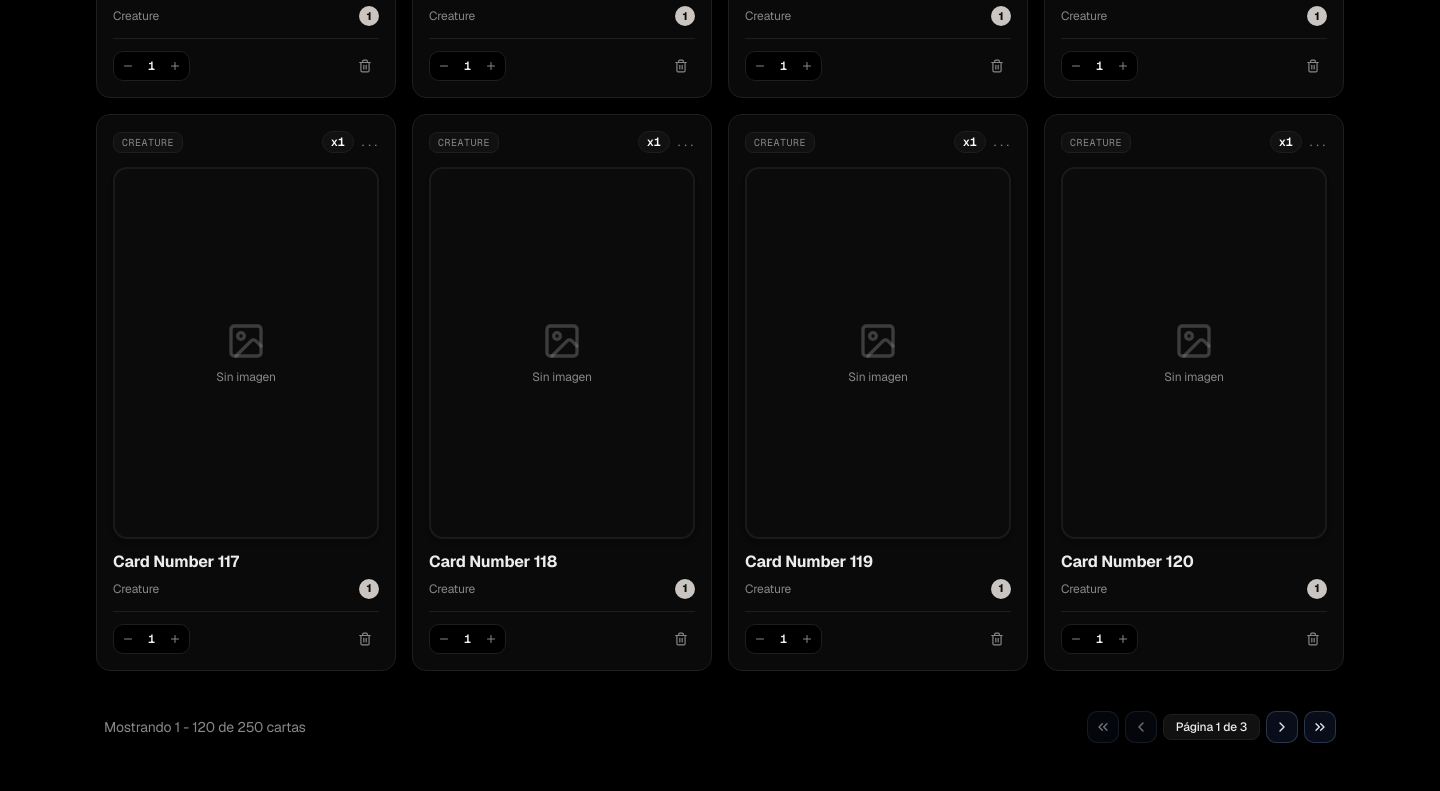
Test: CollectionView Full-Collection Backend Operations › asks the backend for each page and shows totals of the whole filtered collection
The image size is (1440, 791).
(page scrolled)
Check: the button "Card Number 120" is shown, box [1061,551,1194,573]
Check: the text "Mostrando 1 - 120 de 250 cartas" is shown, box [104,717,306,737]
Click the button named "Página siguiente": click(1282, 727) [1266,711,1298,743]
(page scrolled)
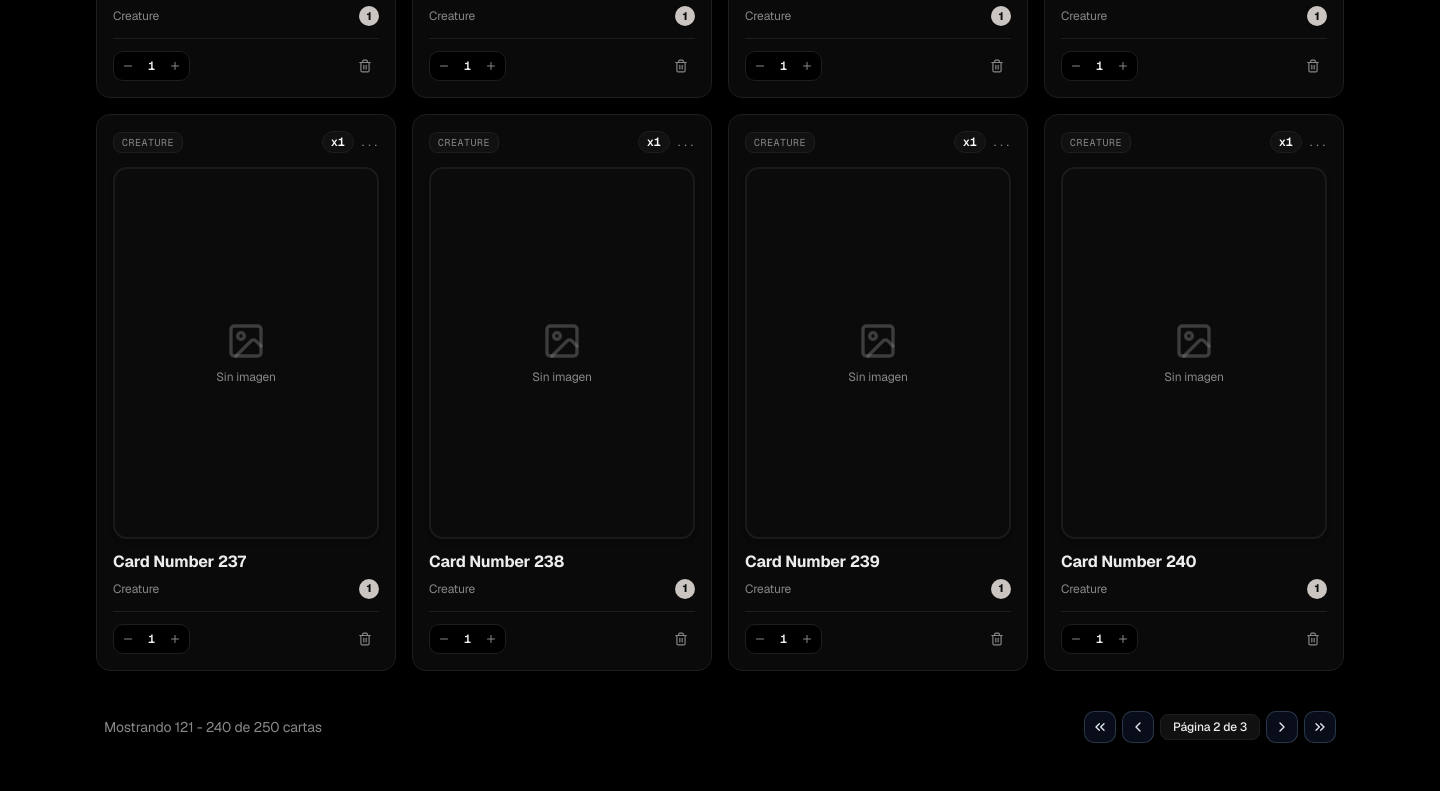
Check: the text "Mostrando 121 - 240 de 250 cartas" is shown, box [104,717,322,737]
Check: the text "Página 2 de 3" is shown, box [1160,714,1260,740]
